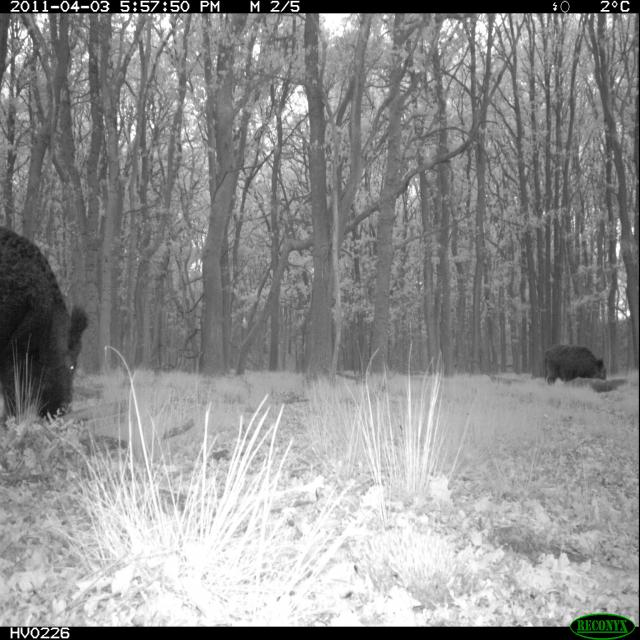boar: (0, 214, 104, 433), (531, 326, 625, 404)
